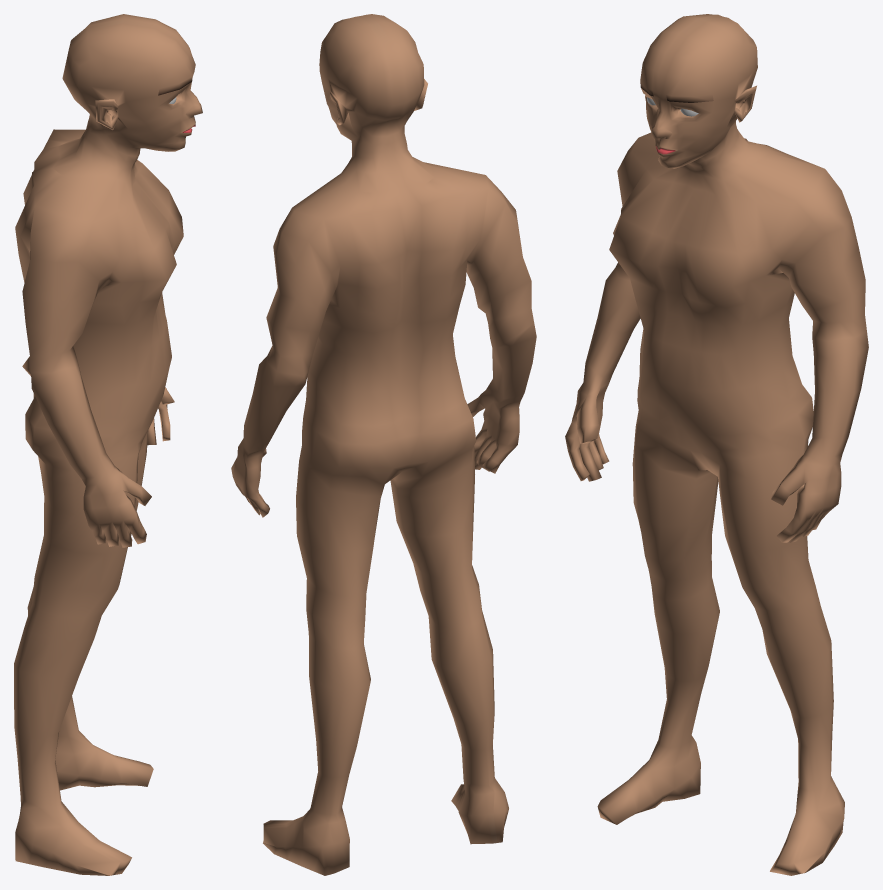
Rendered from boneco11.glb.
The picture shows the model from 3 angles, left to right: view 1: azimuth 30°, elevation 25°; view 2: azimuth 150°, elevation 25°; view 3: azimuth 270°, elevation 25°; orthographic projection. The views are drawn at different scales.
Parts seen in each view (by area): view 1: Plane.012; view 2: Plane.012; view 3: Plane.012.
Part boxes in pixels (x1,y1,x2,y2): Plane.012: (14, 14, 202, 875); Plane.012: (231, 14, 536, 875); Plane.012: (565, 14, 868, 875).
Bounding box in the file's own units: 1 × 3.47 × 1.16.
